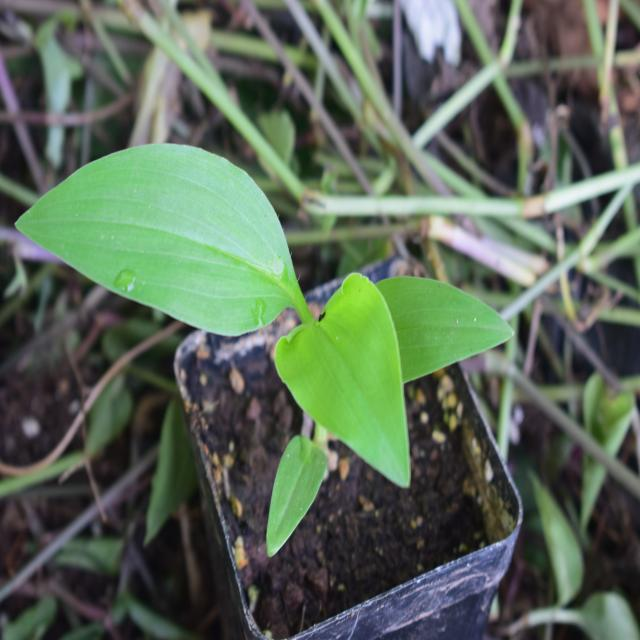Common Dayflower: (9, 140, 509, 512)
